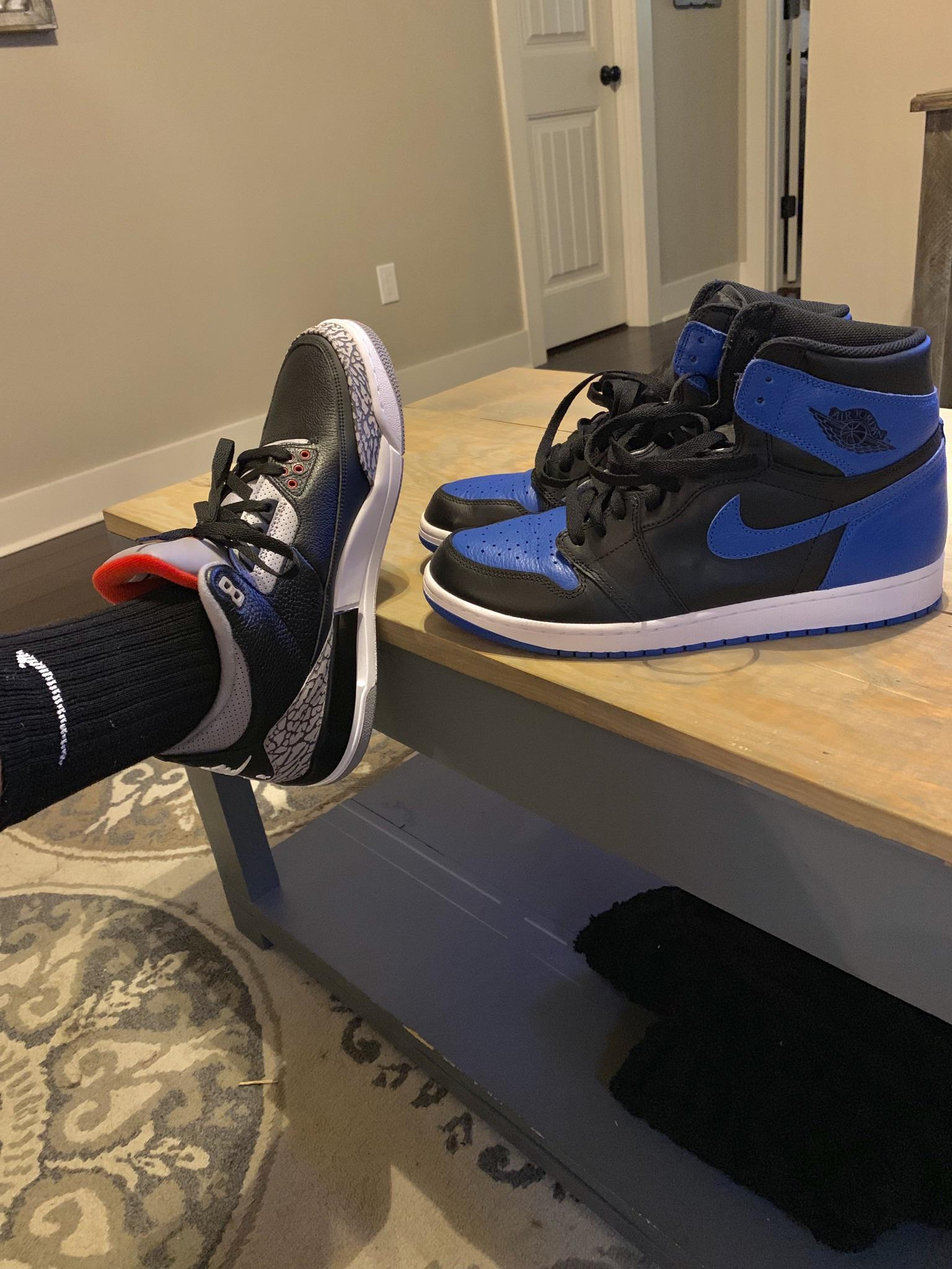sneaker: (407, 257, 952, 691), (69, 288, 413, 820)
